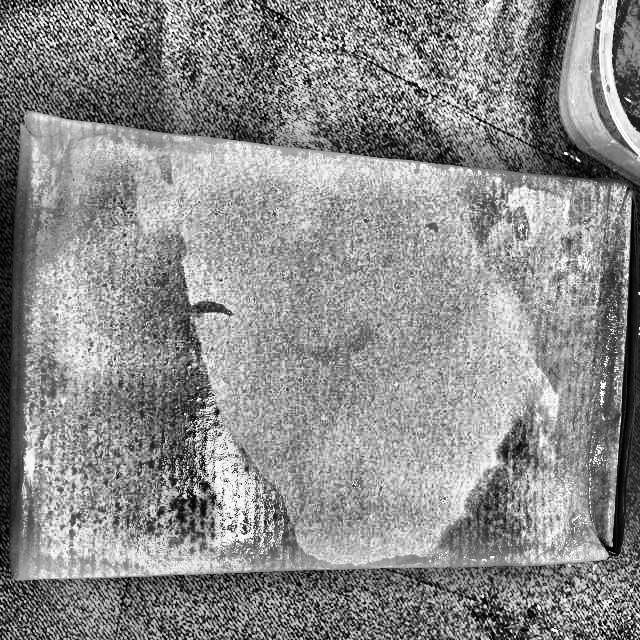box: (5, 95, 640, 588)
wet: (15, 155, 287, 564), (446, 169, 634, 565)
